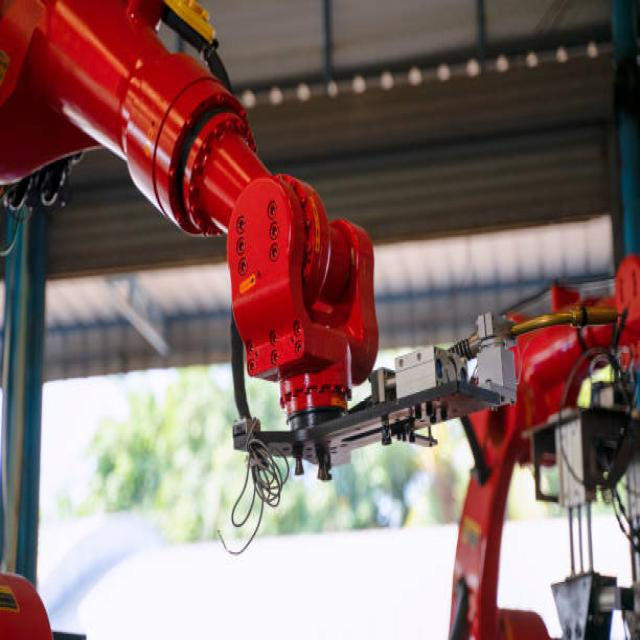Robotic-arm: (1, 0, 387, 482), (448, 254, 640, 640)
